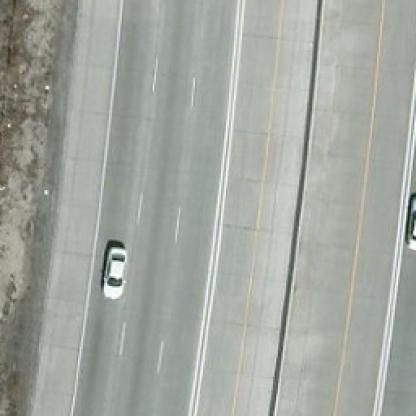car: (96, 244, 127, 294)
